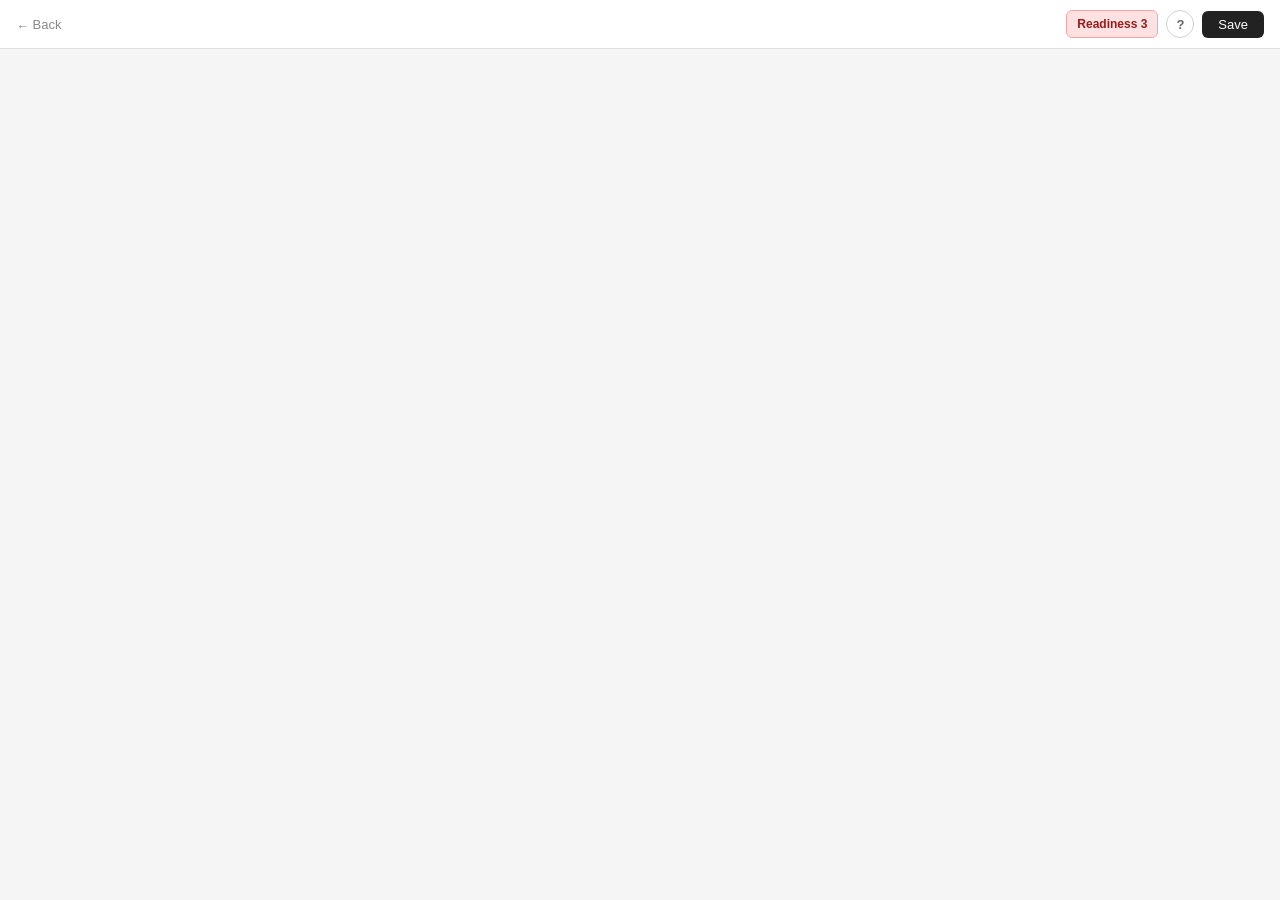
Test case: TopBar readiness action › opens the portfolio readiness modal from the toolbar
Click the button with aria-label "portfolio readiness" at (1112, 24), box [1066, 10, 1158, 38]
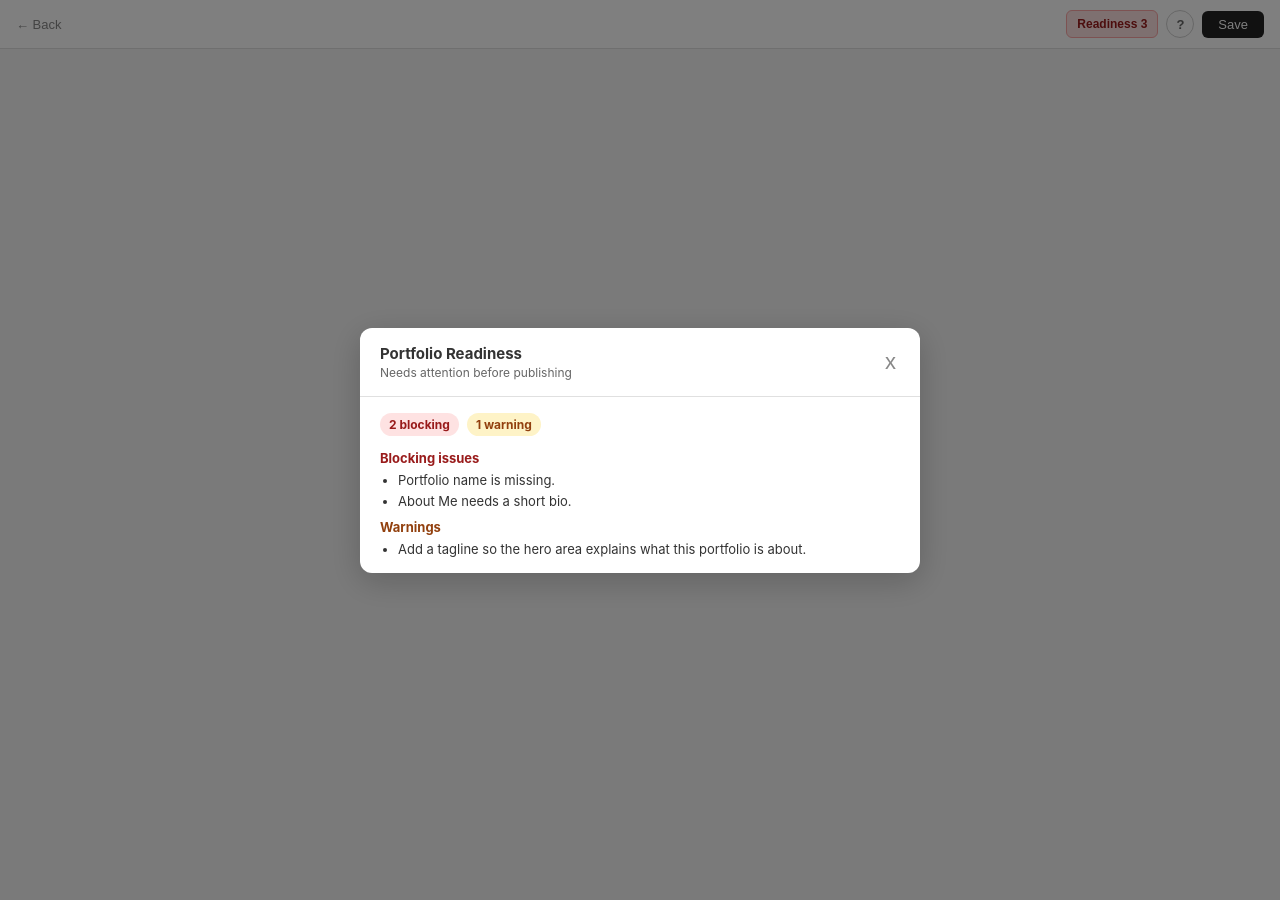
Expected: the dialog "Portfolio Readiness" is shown, [360, 328, 920, 572]
Expected: the list item "Portfolio name is missing." is shown, [398, 472, 555, 488]
